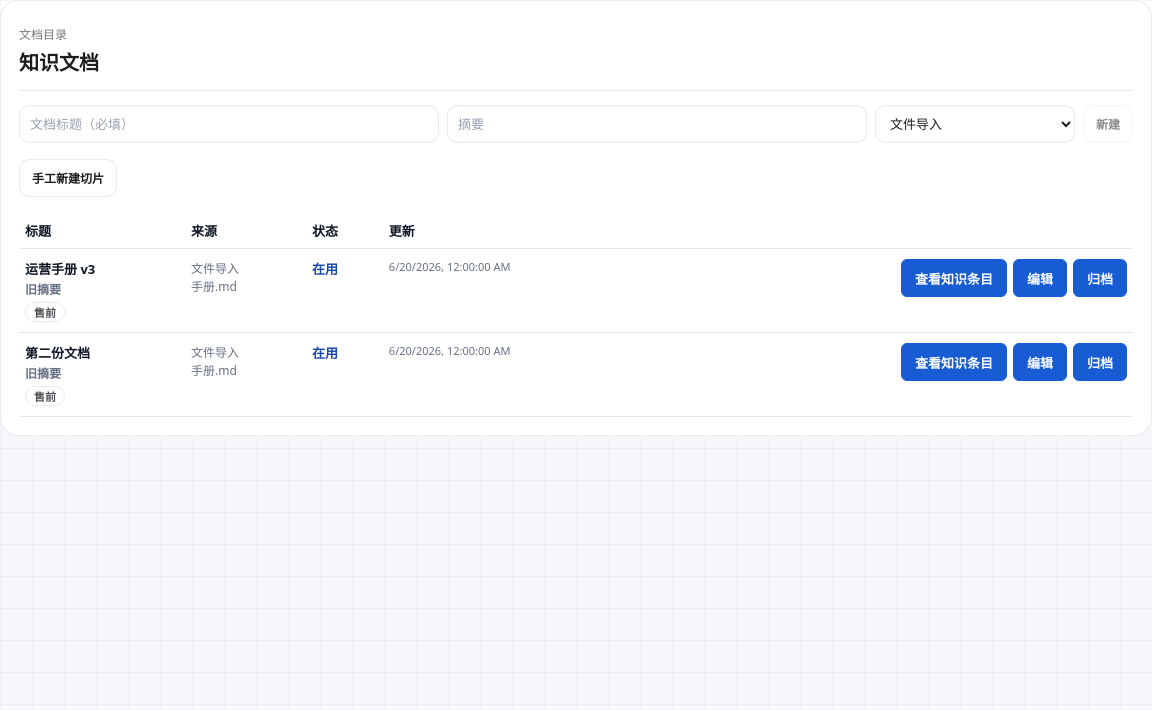
DocumentsView — E6 文档元数据编辑（version CAS） › discards a late detail response after another document is selected
The width and height of the screenshot is (1152, 710).
Check: the text "第二份文档" is shown, box top-left (25, 344), bottom-right (90, 362)
Click the button "编辑" in the row of "运营手册 v3" at (1040, 278), box top-left (1013, 259), bottom-right (1067, 297)
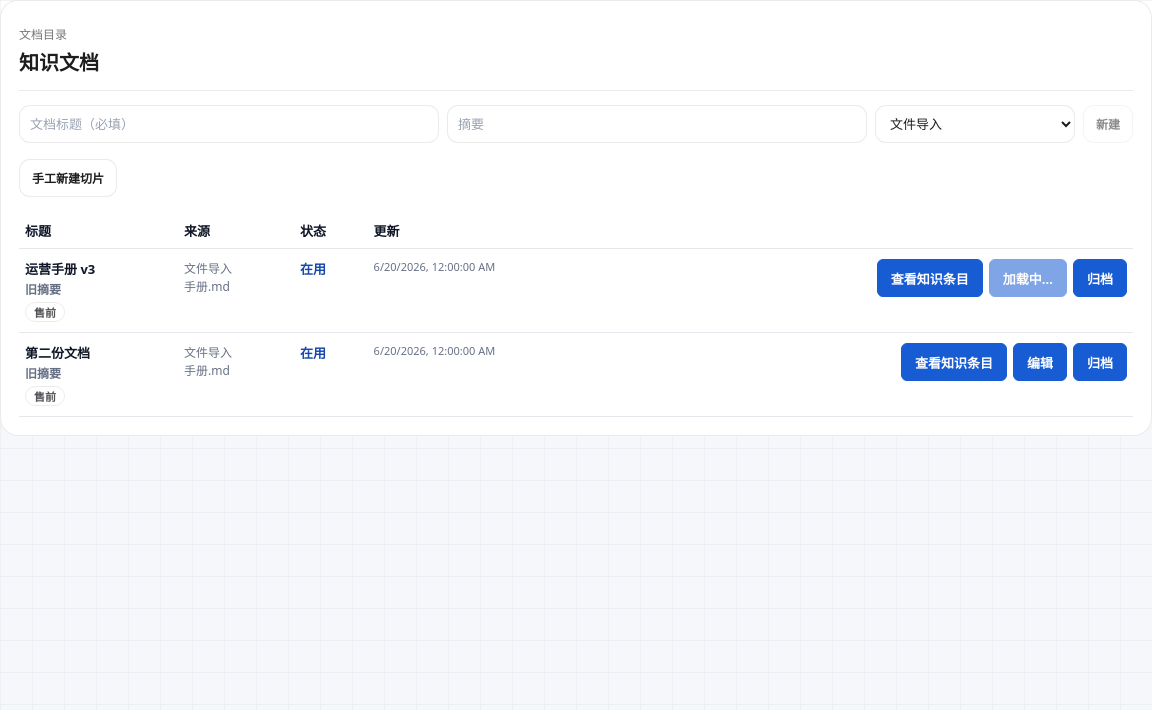
Click the button "编辑" at (1040, 362), box top-left (1013, 343), bottom-right (1067, 381)
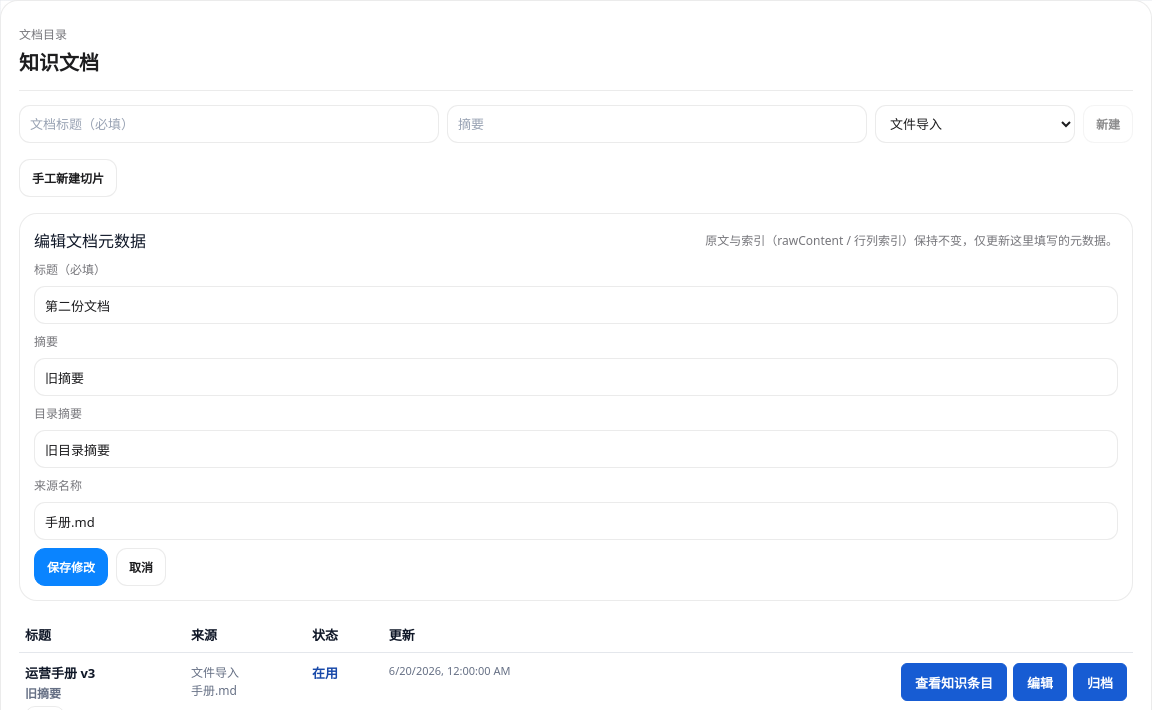
Check: the 1st field showing "第二份文档" is shown, box top-left (34, 286), bottom-right (1118, 324)
